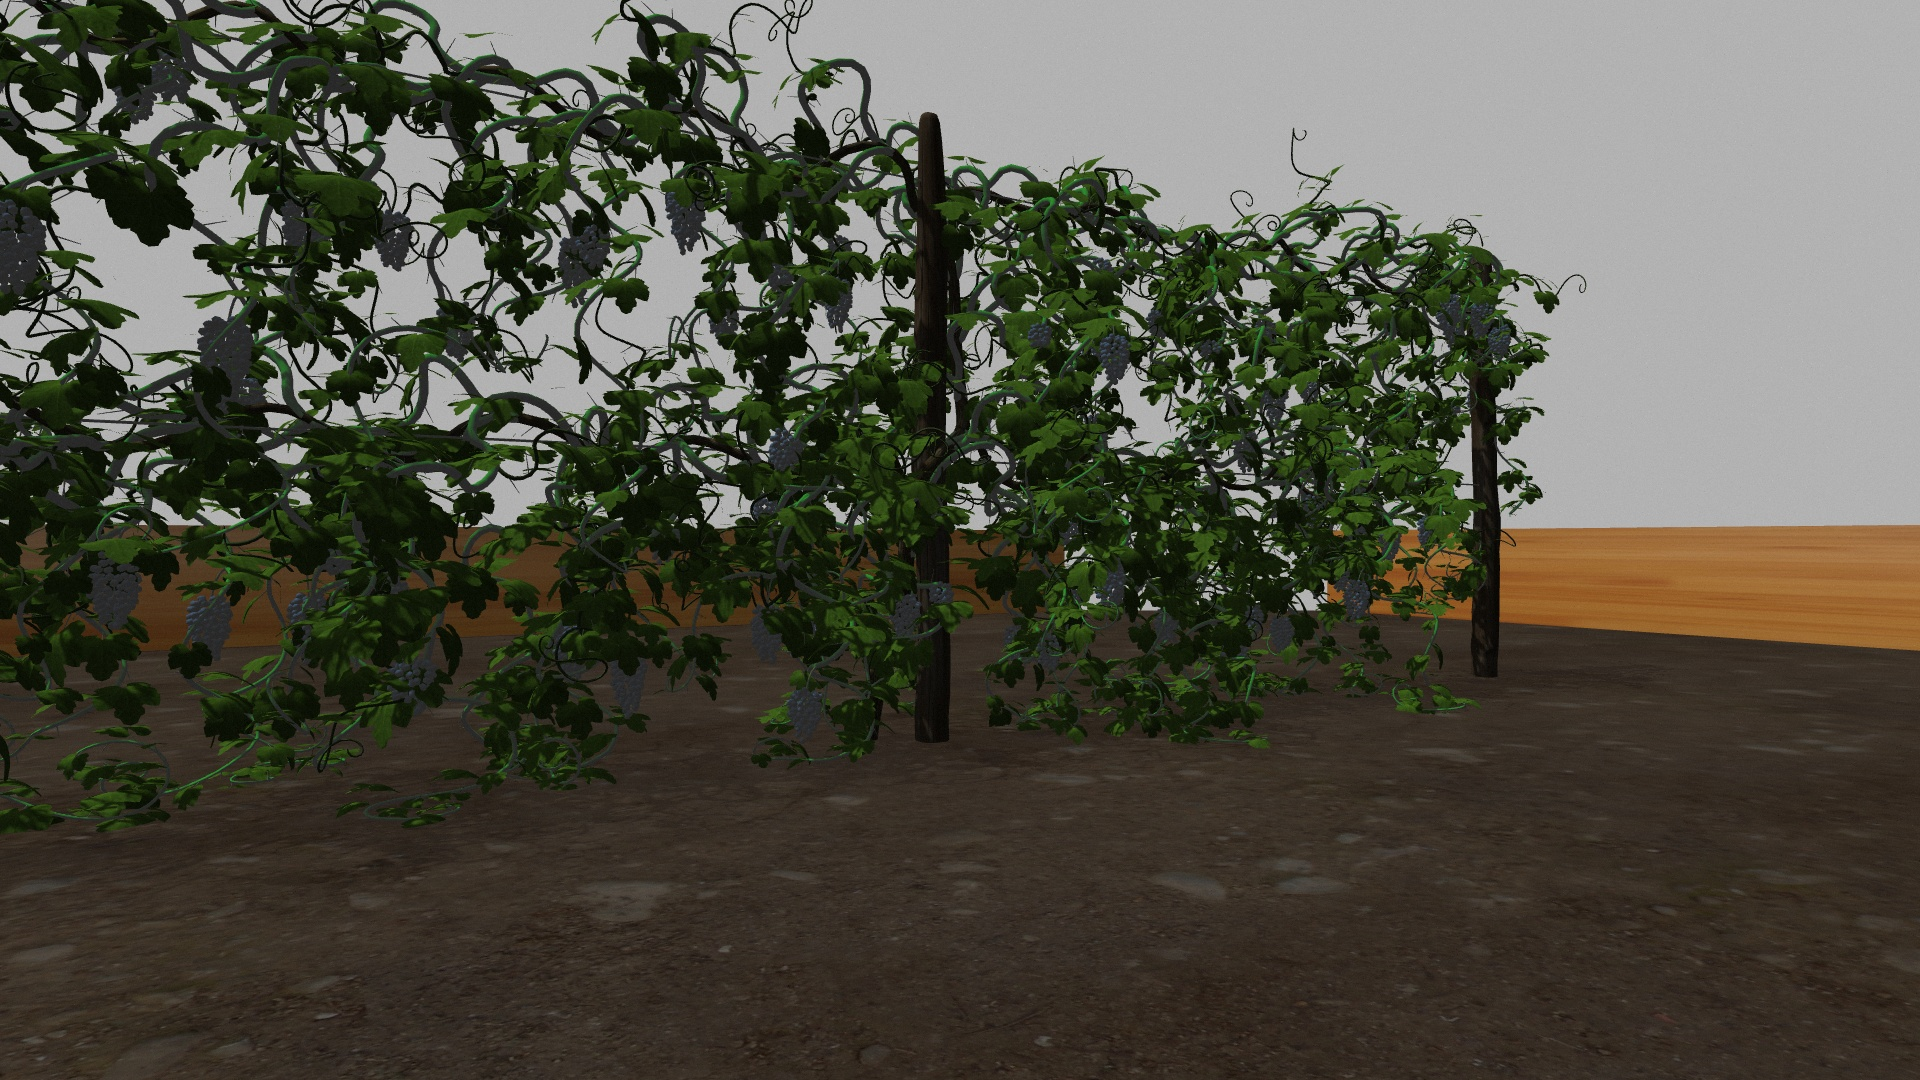grape: (196, 316, 253, 397), (3, 200, 47, 294), (88, 555, 142, 628), (186, 595, 235, 661), (278, 196, 328, 256), (375, 208, 414, 273), (609, 655, 649, 719), (667, 190, 705, 255), (556, 240, 593, 306), (789, 680, 825, 744), (749, 607, 787, 665), (152, 55, 193, 105), (113, 84, 158, 125), (1098, 331, 1131, 384), (392, 654, 436, 692), (1436, 295, 1465, 348), (825, 280, 855, 332), (769, 427, 802, 472), (1341, 578, 1371, 622), (578, 227, 611, 268), (891, 593, 920, 640), (1100, 563, 1125, 608), (1469, 298, 1495, 340), (1269, 612, 1296, 651), (1263, 385, 1290, 426), (1234, 431, 1259, 473), (1487, 326, 1514, 361), (1038, 636, 1062, 673), (1153, 615, 1178, 644), (1027, 323, 1054, 348), (928, 580, 953, 604), (1200, 338, 1222, 360)
